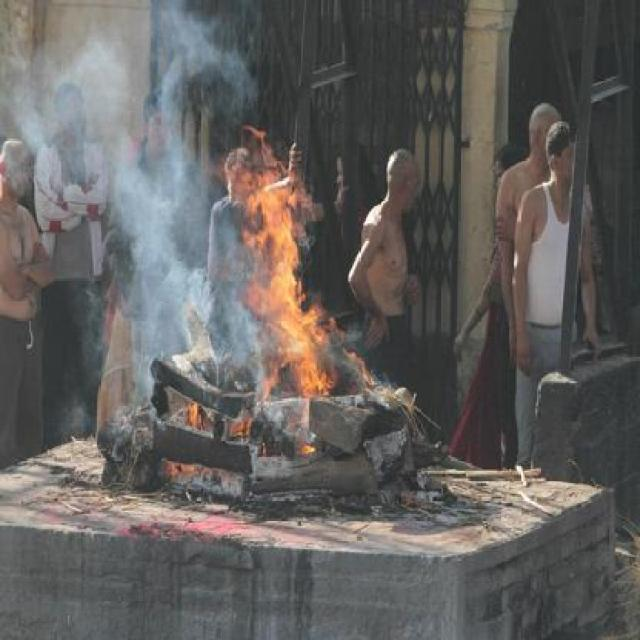Fire: (166, 150, 374, 490)
Smoke: (20, 25, 161, 363), (170, 3, 253, 148)
